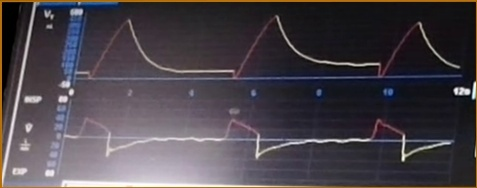Flow: (69, 115, 444, 176)
Leakage Volume: (81, 15, 461, 85)
